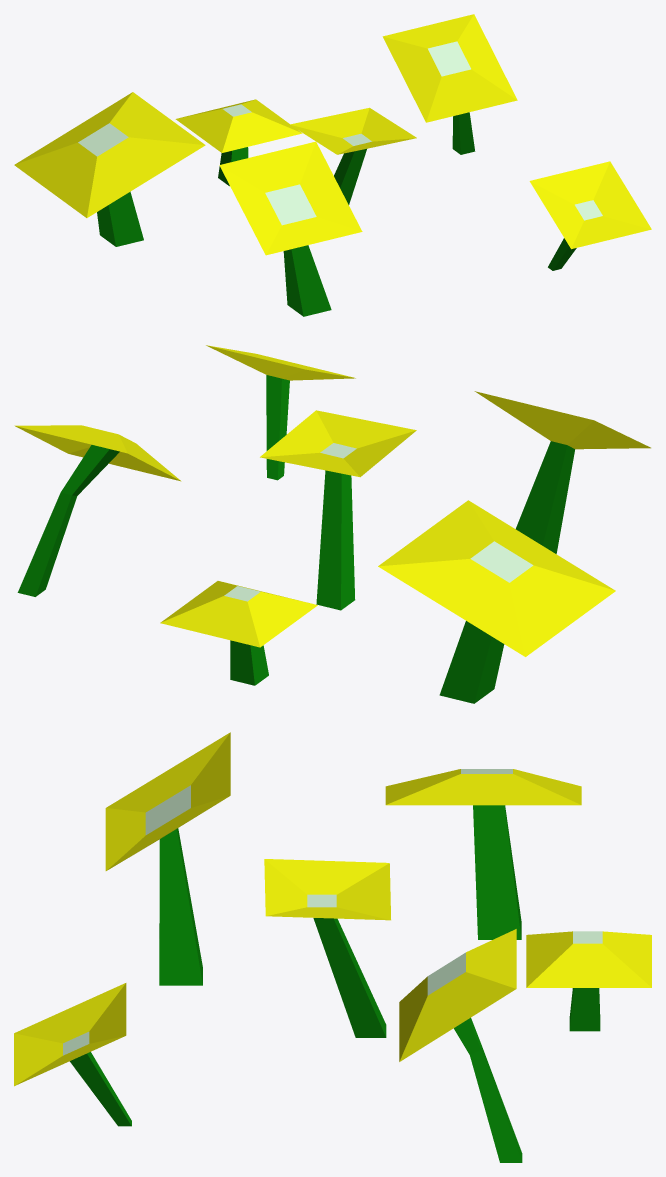
Rendered from SM_Flower1.fbx.
The picture shows the model from 3 angles, top to bottom: view 1: azimuth 30°, elevation 25°; view 2: azimuth 150°, elevation 25°; view 3: azimuth 270°, elevation 25°; orthographic projection. The views are drawn at different scales.
Parts seen in each view (by area): view 1: Flower2; view 2: Flower2; view 3: Flower2.
Boxes of the visible parts, x1,y1,x2,y2 form: Flower2: (14, 14, 651, 316); Flower2: (14, 345, 650, 703); Flower2: (14, 732, 651, 1162).
Bounding box in the file's own units: 17.21 × 5.52 × 16.2.
